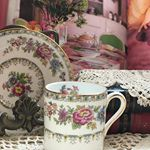cups: (41, 79, 128, 150)
